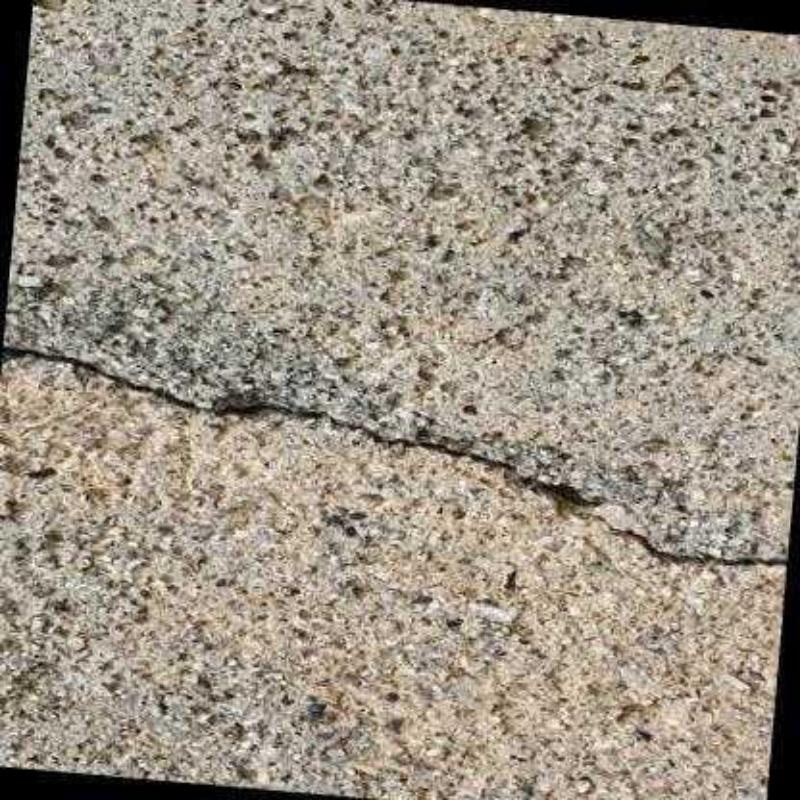crack: (3, 346, 788, 566)
